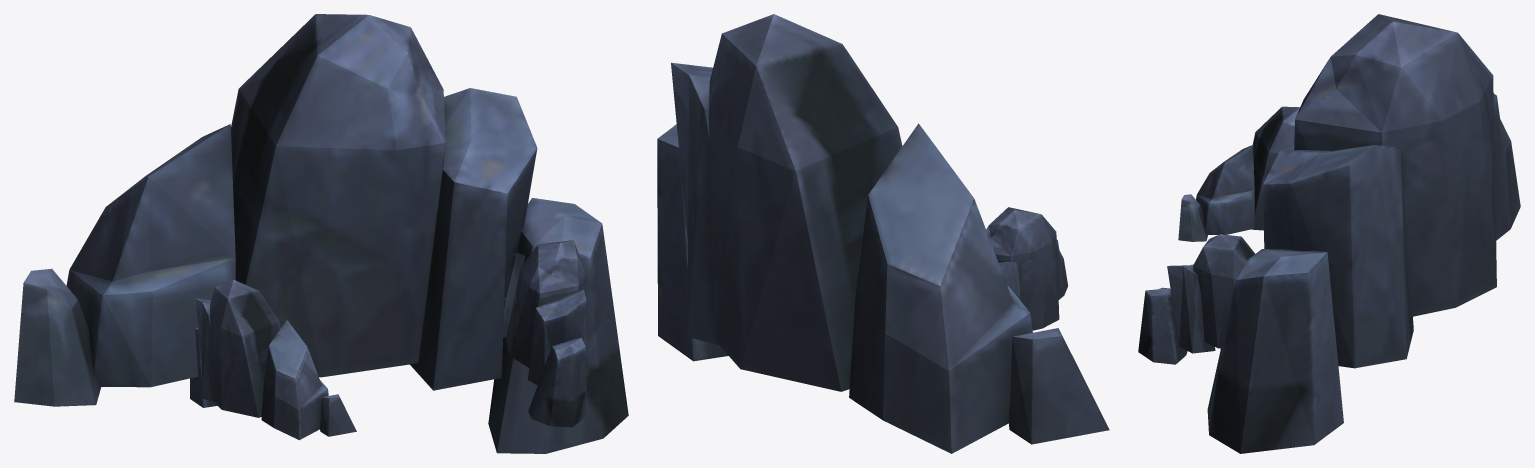
The model's file is Area12_13.fbx.
The picture shows the model from 3 angles, left to right: view 1: azimuth 30°, elevation 25°; view 2: azimuth 150°, elevation 25°; view 3: azimuth 270°, elevation 25°; orthographic projection. The views are drawn at different scales.
Visible parts, largest first — view 1: Area12_13; view 2: Area12_13; view 3: Area12_13.
Part boxes in pixels (x1,y1,x2,y2): Area12_13: [14, 14, 628, 453]; Area12_13: [657, 14, 1109, 453]; Area12_13: [1138, 14, 1520, 453].
Bounding box in the file's own units: 1335 × 947 × 927.
